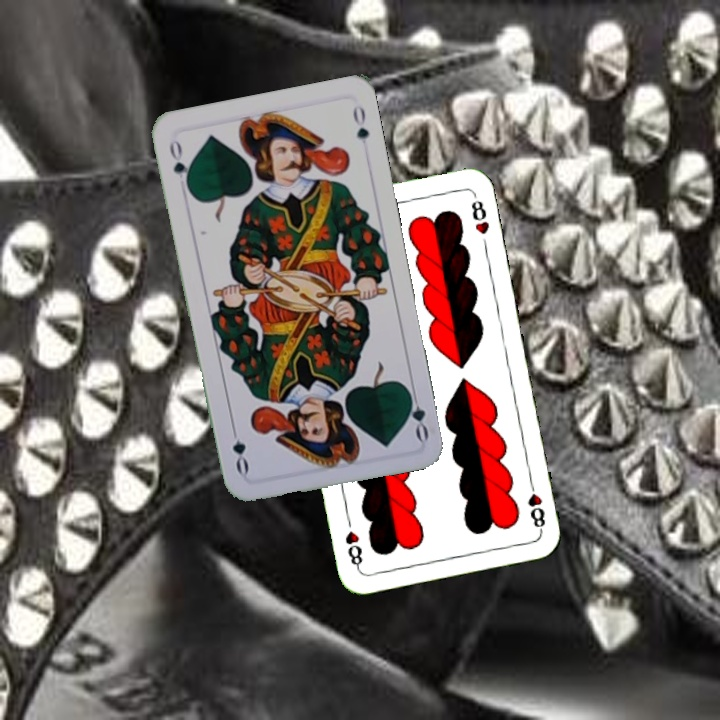GO: (403, 384, 431, 443), (165, 136, 193, 193)
H8: (524, 476, 548, 534)
